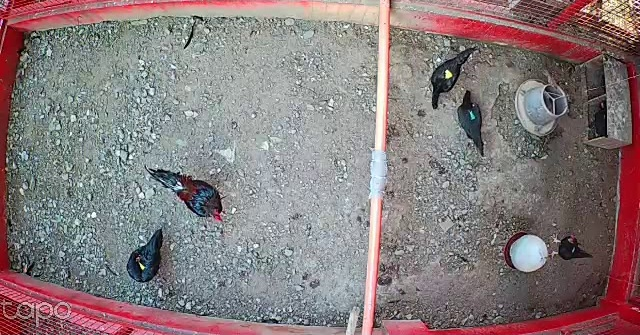Chicken: (424, 43, 473, 109), (123, 225, 168, 286), (455, 88, 488, 151), (546, 230, 595, 264)
Rooster: (142, 158, 233, 232)
Saddle_Color_Yellow: (445, 69, 454, 79), (138, 259, 146, 269)
